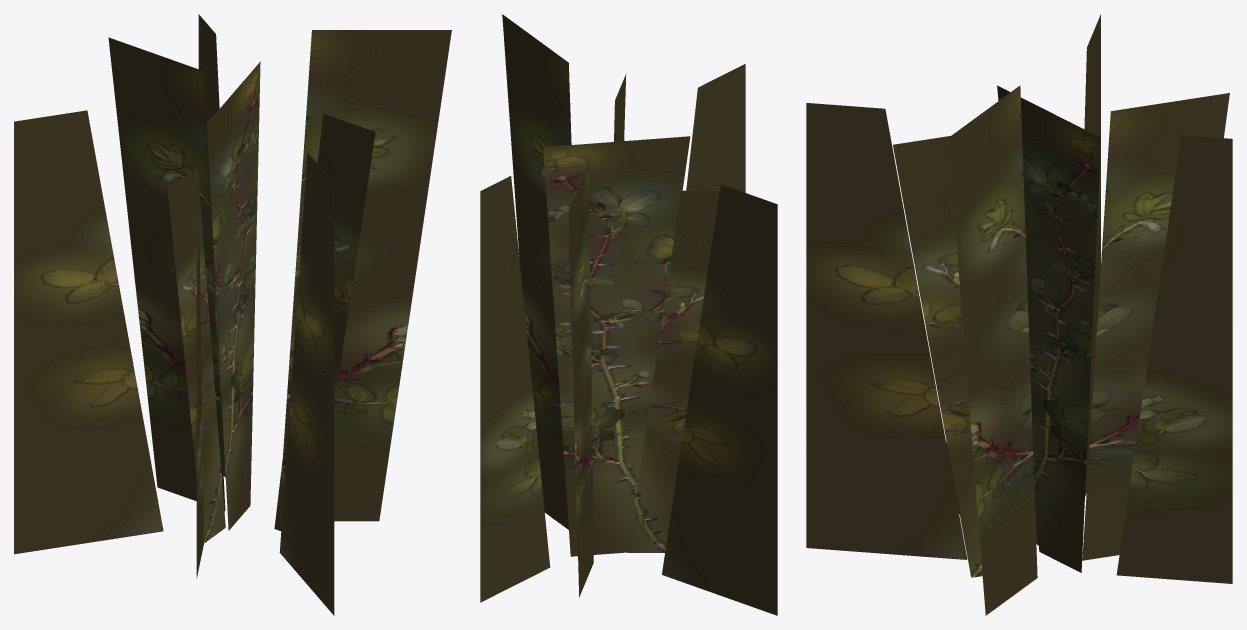
3 renders of one model, left to right at view 1: azimuth 30°, elevation 25°; view 2: azimuth 150°, elevation 25°; view 3: azimuth 270°, elevation 25°, orthographic. The views are drawn at different scales.
Visible parts, largest first — view 1: Grass073; view 2: Grass073; view 3: Grass073.
Part boxes in pixels (bbox=[...]): Grass073: bbox=[14, 14, 451, 615]; Grass073: bbox=[480, 14, 777, 615]; Grass073: bbox=[806, 14, 1232, 615].
Size of the model in its own units: 14.1 by 18.2 by 13.91.
